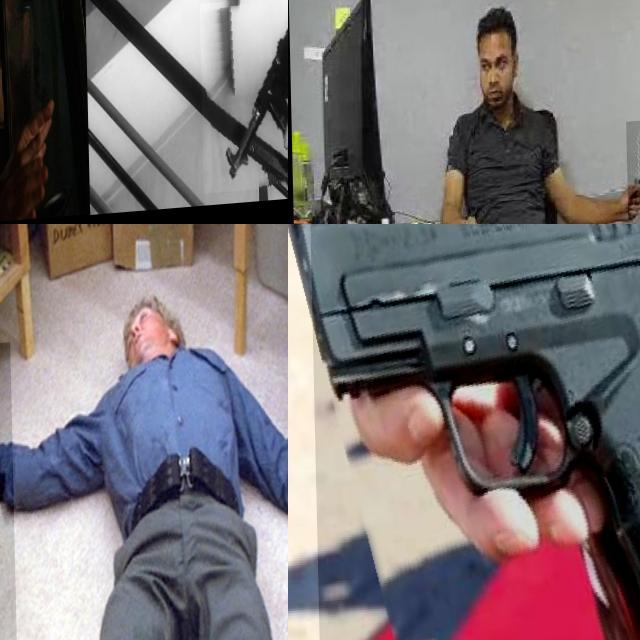-: (623, 126, 640, 212)
gun-knife-thesis - v11 Yolov5 augmented: (307, 224, 640, 640), (0, 345, 99, 640), (0, 0, 164, 153), (198, 3, 288, 201), (159, 0, 288, 99), (0, 0, 16, 66)
